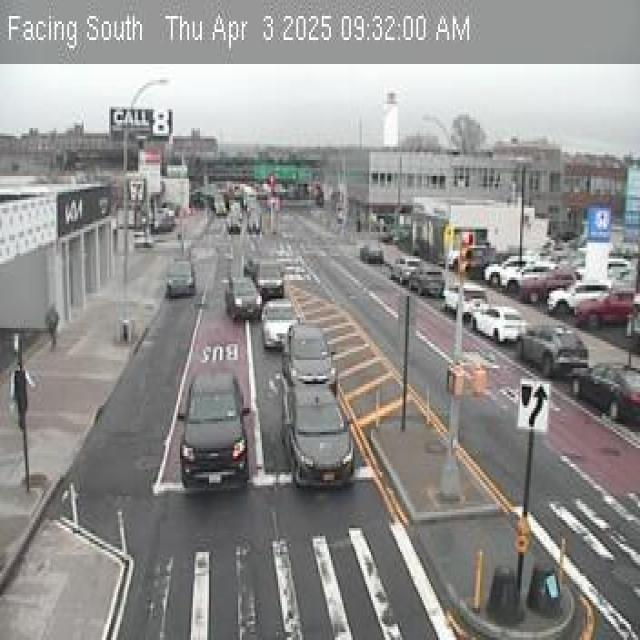open parking: (379, 253, 401, 276)
parkedCars: (473, 300, 633, 402), (395, 253, 433, 296), (357, 242, 386, 266)
